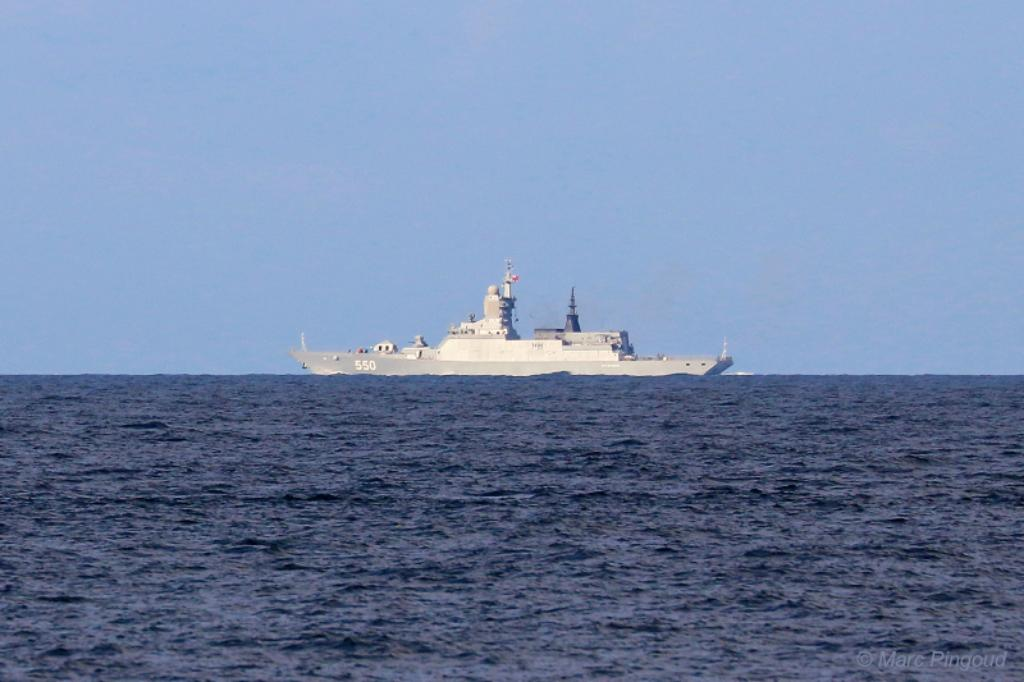Warship: (284, 256, 736, 378)
